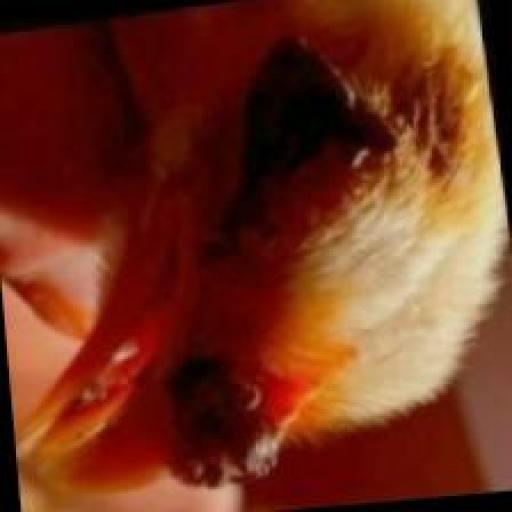disease: (159, 23, 406, 489), (224, 17, 227, 18)
